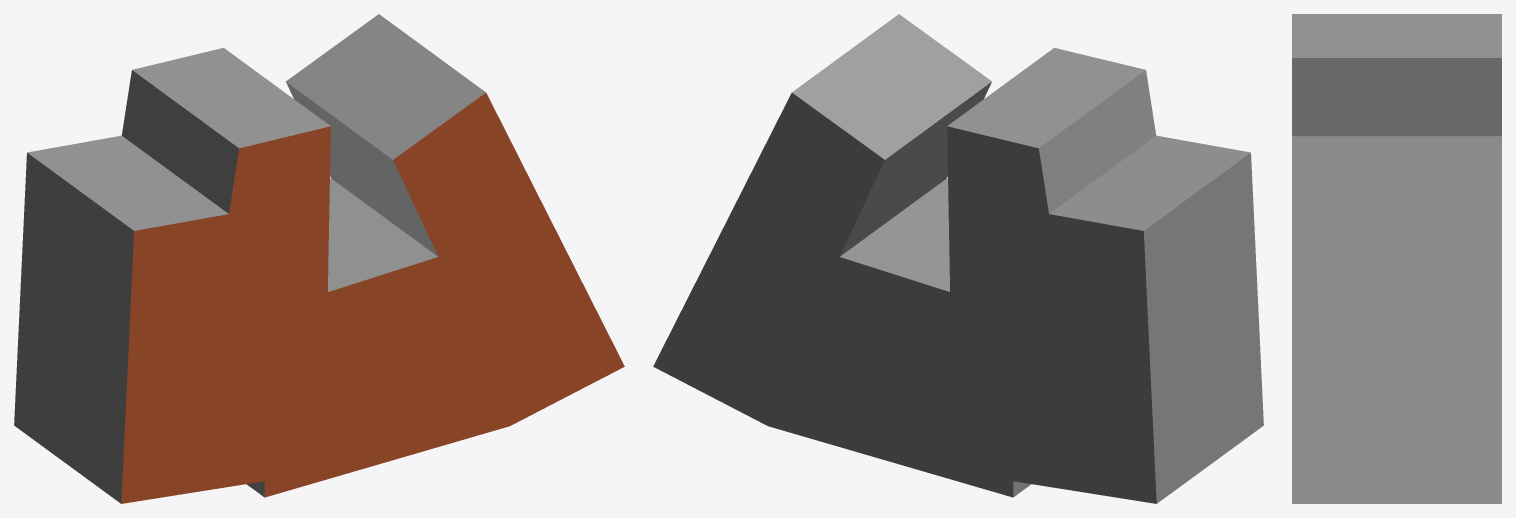
Rendered from construction_3698_assumed_A_Casa_h6m.obj.
3 views of the same model, side by side, from view 1: azimuth 30°, elevation 25°; view 2: azimuth 150°, elevation 25°; view 3: azimuth 270°, elevation 25° (orthographic). The views are drawn at different scales.
Parts seen in each view (by area): view 1: construction_3698_assumed_A_Casa; view 2: construction_3698_assumed_A_Casa; view 3: construction_3698_assumed_A_Casa.
Part boxes in pixels (x1,y1,x2,y2): construction_3698_assumed_A_Casa: (14, 14, 624, 503); construction_3698_assumed_A_Casa: (653, 14, 1263, 503); construction_3698_assumed_A_Casa: (1292, 14, 1501, 503).
Bounding box in the file's own units: 16.27 × 10.98 × 6.
